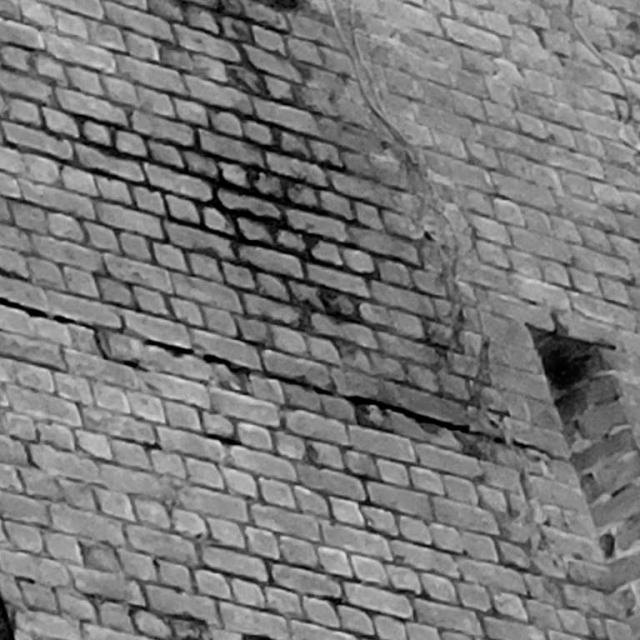crack: (1, 297, 546, 454)
